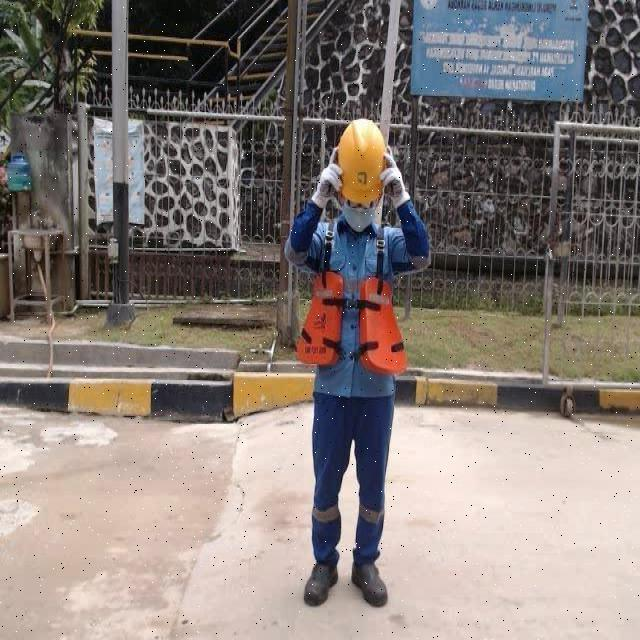Hard_hat: (339, 118, 386, 204)
Vest: (298, 206, 407, 382)
